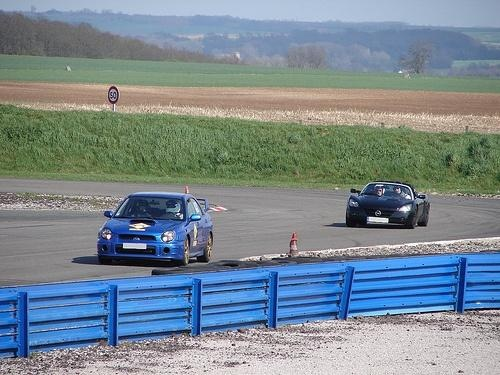car: (98, 192, 214, 267), (347, 184, 431, 229)
